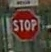stop: (9, 7, 40, 41)
